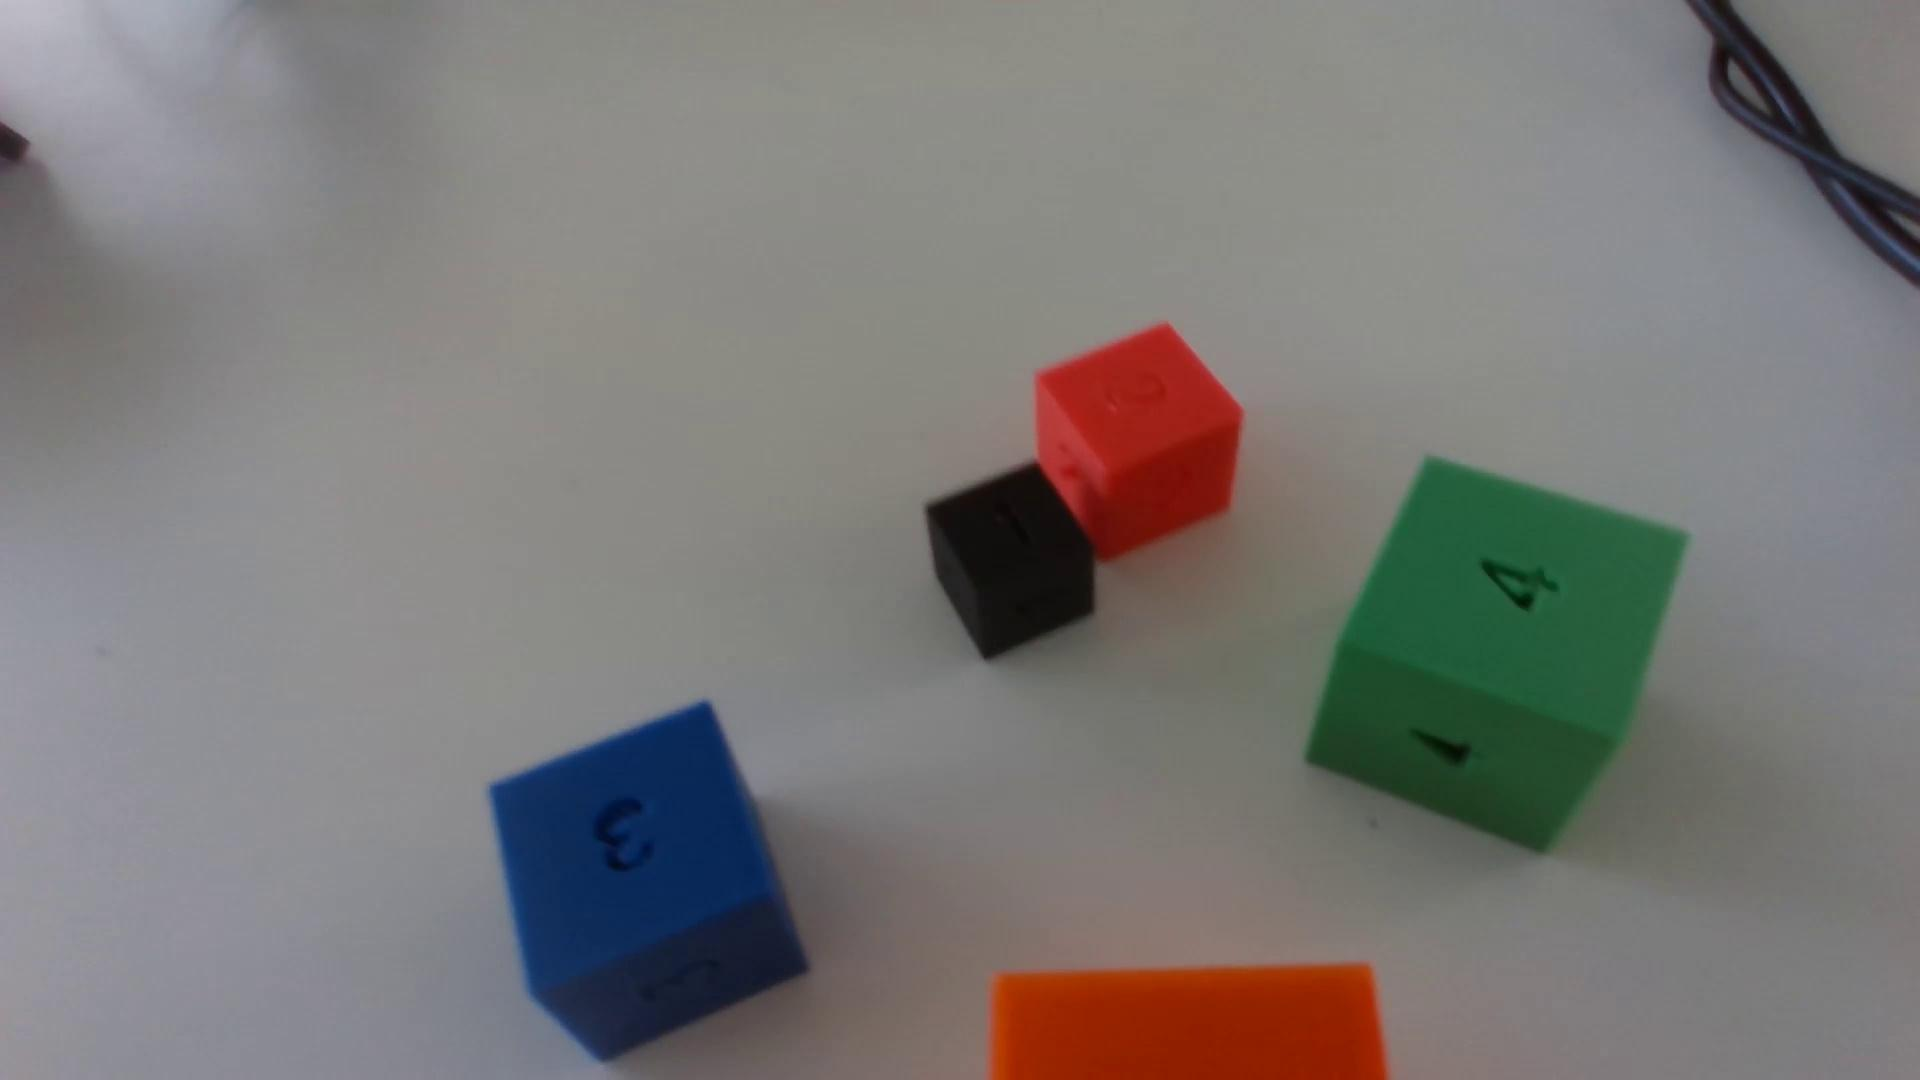black: (924, 463, 1095, 661)
blue: (491, 703, 807, 1062)
green: (1305, 459, 1687, 852)
orange: (988, 965, 1387, 1080)
red: (1034, 326, 1244, 563)
